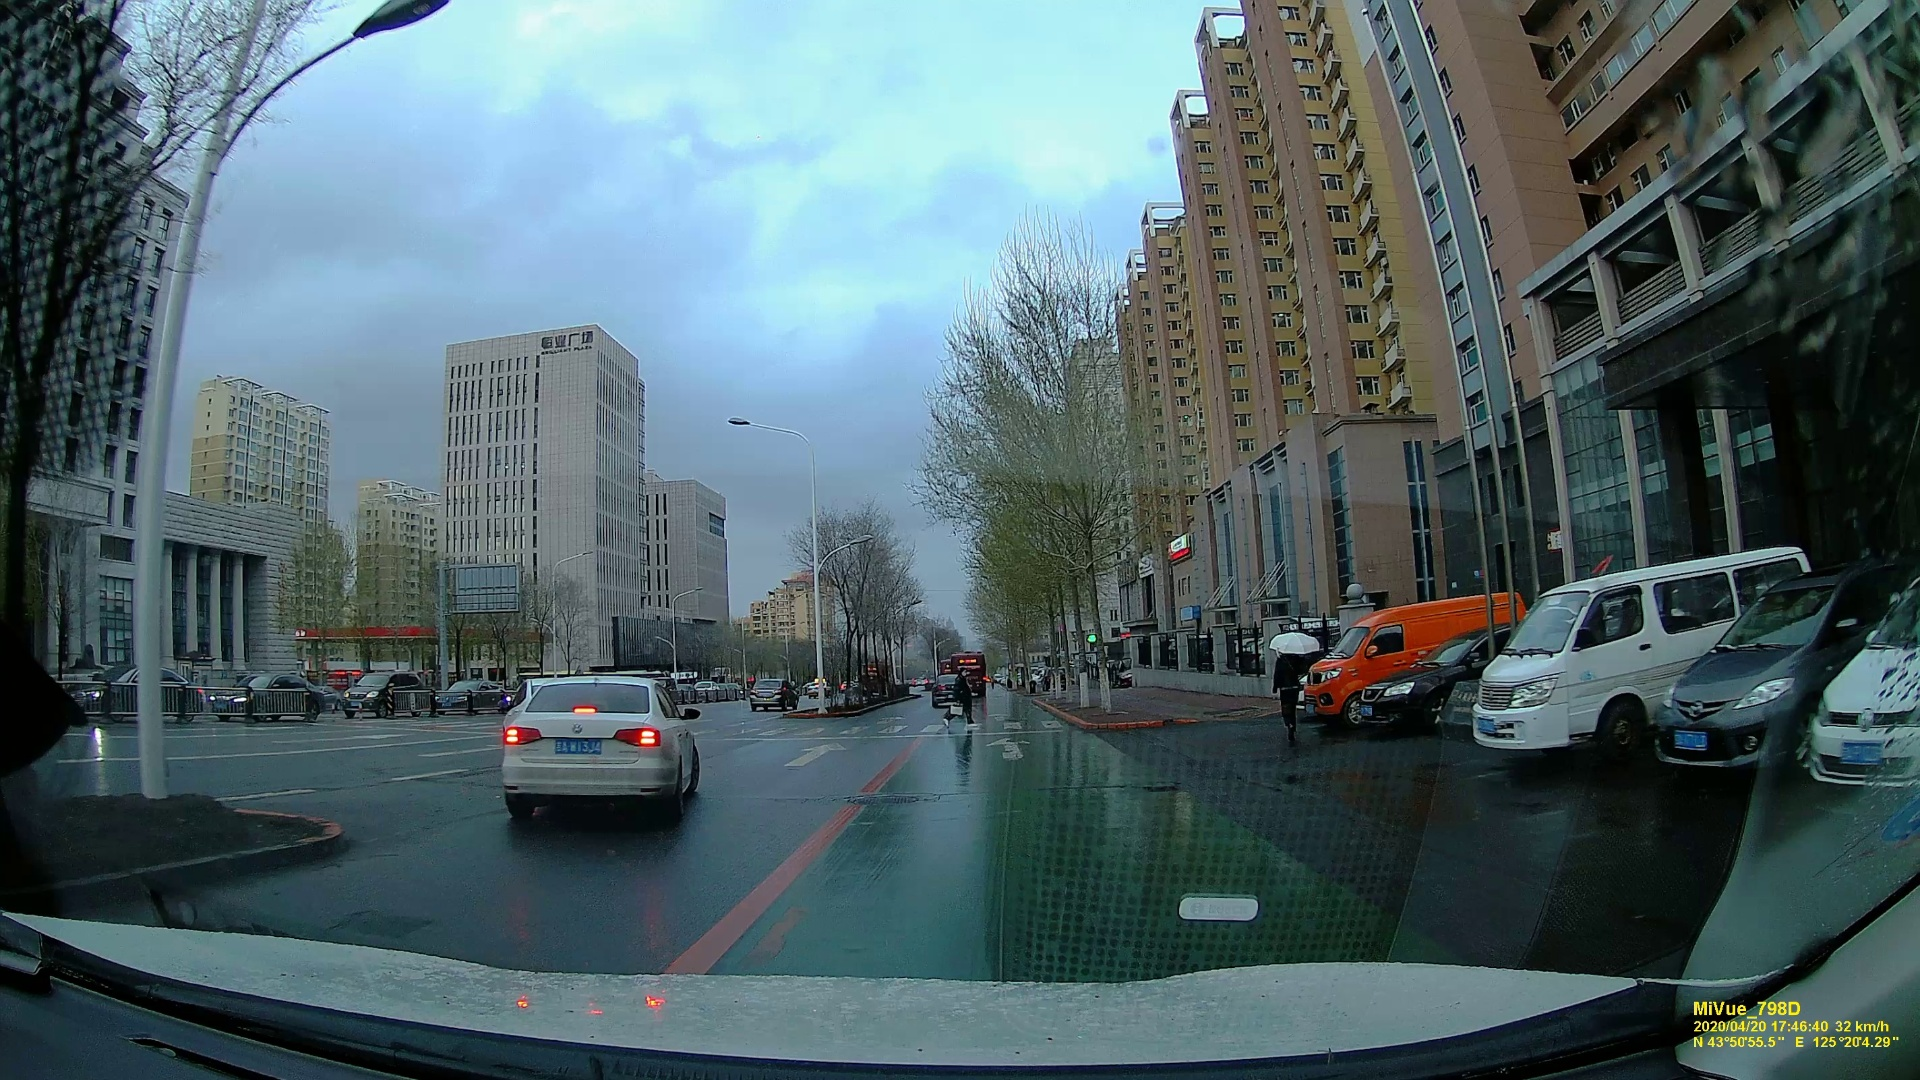minibus: (1476, 571, 1673, 775), (1303, 598, 1429, 736)
person: (1272, 636, 1310, 734), (942, 668, 975, 733), (987, 673, 996, 690)
vehicle: (494, 672, 705, 818), (1806, 602, 1916, 795), (744, 680, 796, 707)
